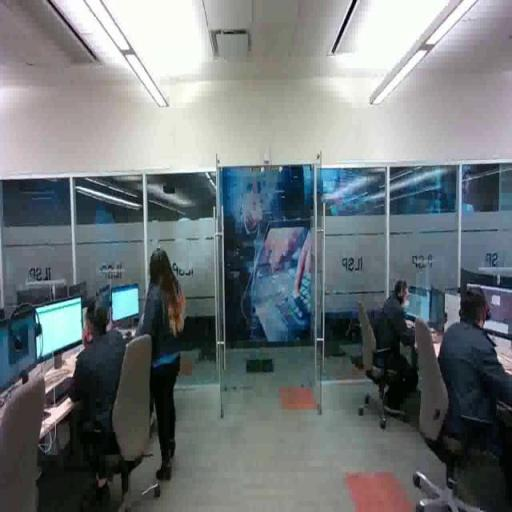person: (54, 280, 133, 491), (427, 288, 512, 481), (141, 243, 188, 485), (373, 280, 428, 434)
